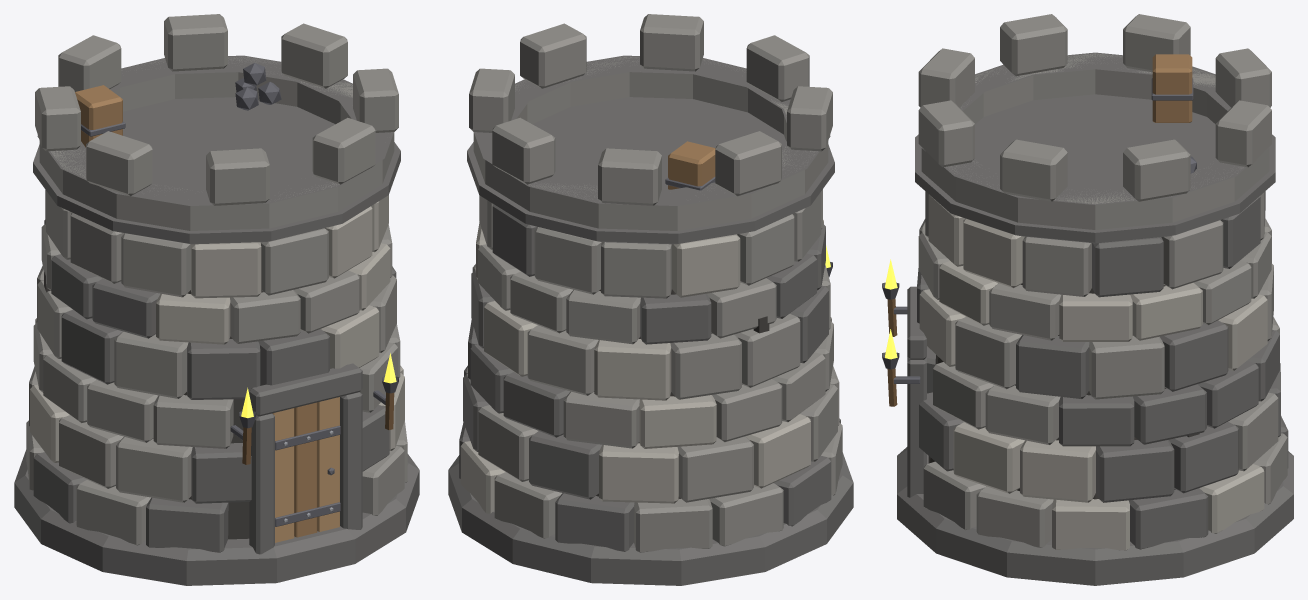
The model's file is cannon_tower_2.glb.
3 views of the same model, side by side, from view 1: azimuth 30°, elevation 25°; view 2: azimuth 150°, elevation 25°; view 3: azimuth 270°, elevation 25° (orthographic).
Parts seen in each view (by area): view 1: CannonTower; view 2: CannonTower; view 3: CannonTower.
Part boxes in pixels (bbox=[...]): CannonTower: bbox=[14, 14, 419, 585]; CannonTower: bbox=[448, 14, 853, 585]; CannonTower: bbox=[882, 14, 1293, 585].
Size of the model in its own units: 3.7 by 4.14 by 3.74.
